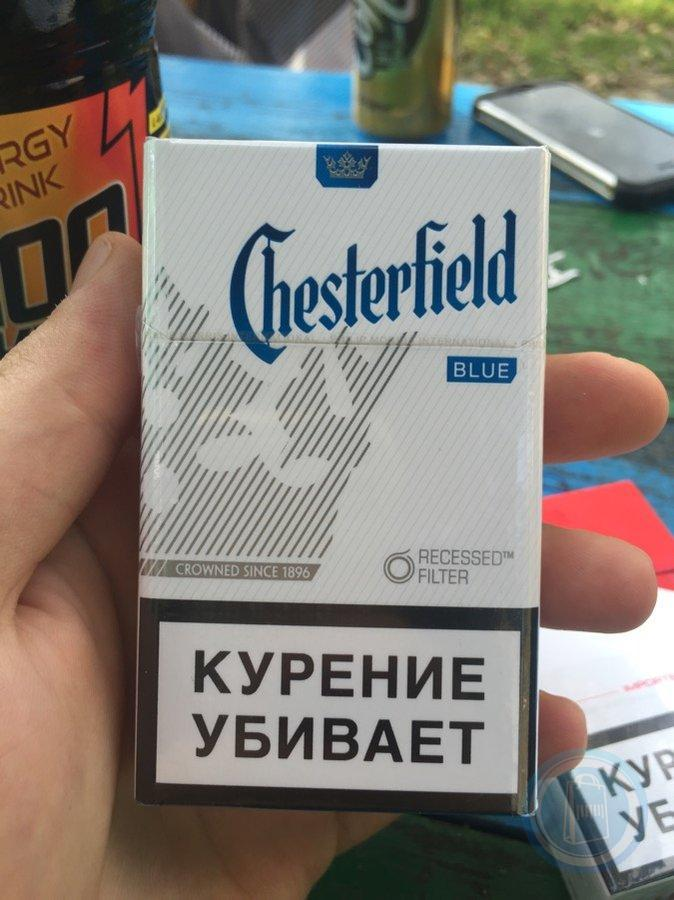chesterfield_blue: (136, 143, 536, 816)
